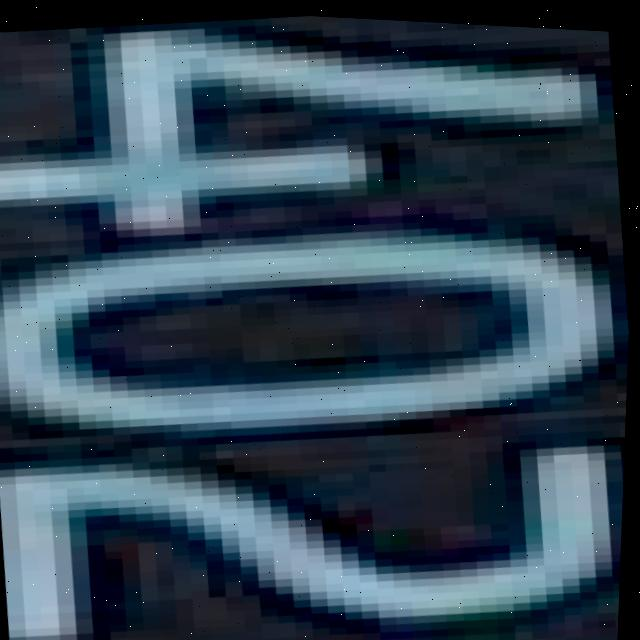character: (0, 185, 633, 473), (0, 0, 627, 278), (0, 396, 625, 640)
